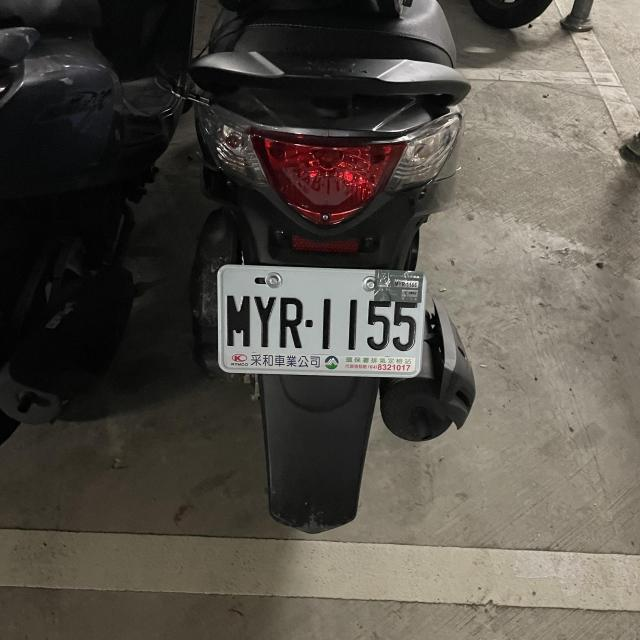W: (216, 265, 424, 378)
